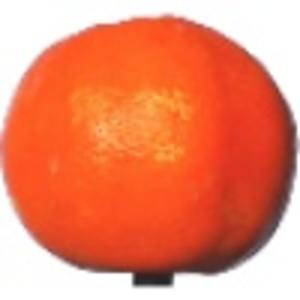tangerina: (1, 12, 300, 288)
